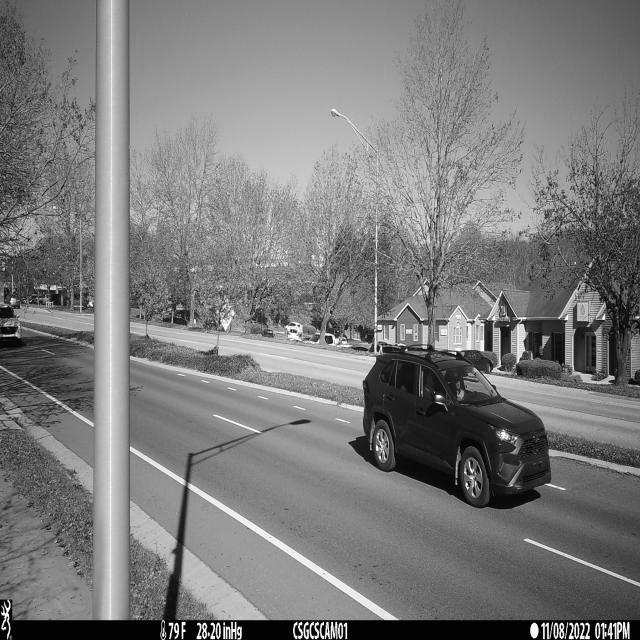SUV: (363, 344, 551, 509)
